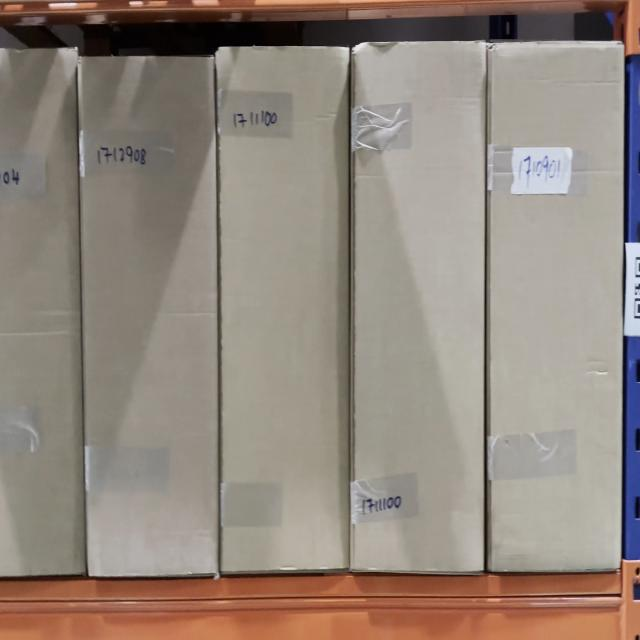box: (489, 43, 624, 564), (354, 43, 484, 571), (216, 51, 348, 568), (87, 51, 217, 568)
